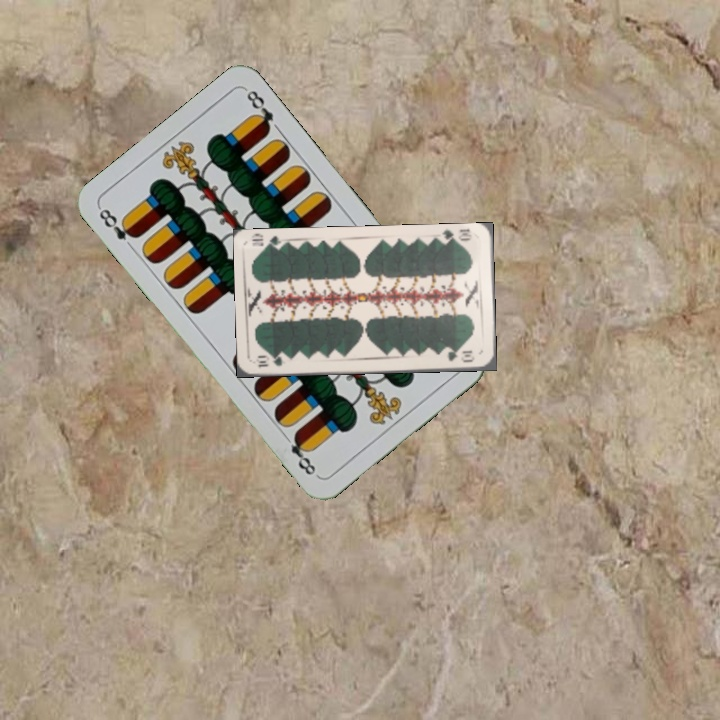E8: (94, 204, 141, 244)
G10: (436, 226, 474, 246), (252, 352, 285, 370)
